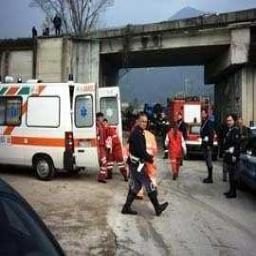Ambulance: (0, 80, 121, 179)
